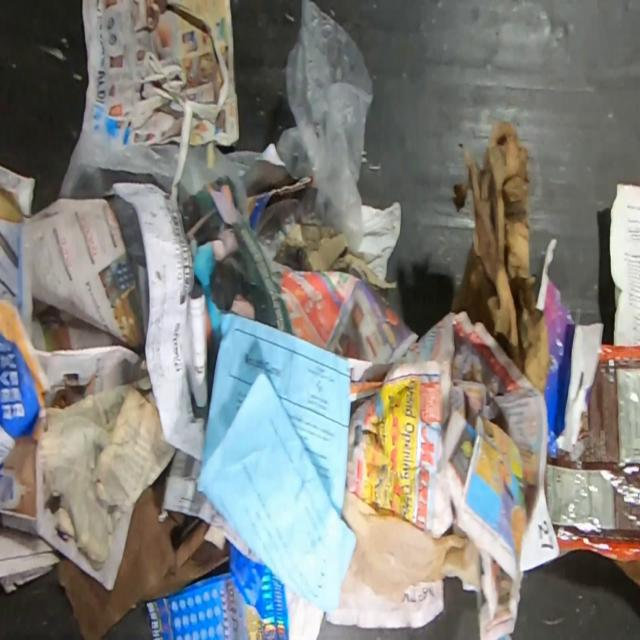cardboard: (449, 116, 549, 396)
soft_plastic: (276, 0, 374, 255), (544, 343, 640, 562), (341, 485, 480, 609), (534, 236, 603, 459), (56, 129, 180, 199), (178, 141, 262, 223)
